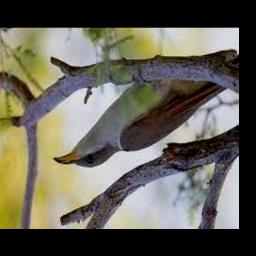Cuckoo: (55, 76, 229, 168)
